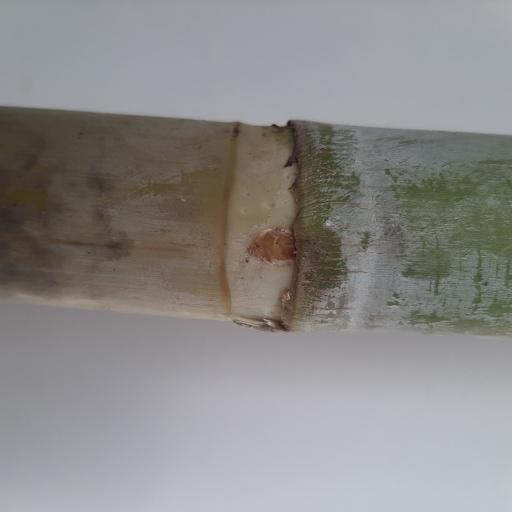Damage_Bud: (245, 227, 295, 264)
